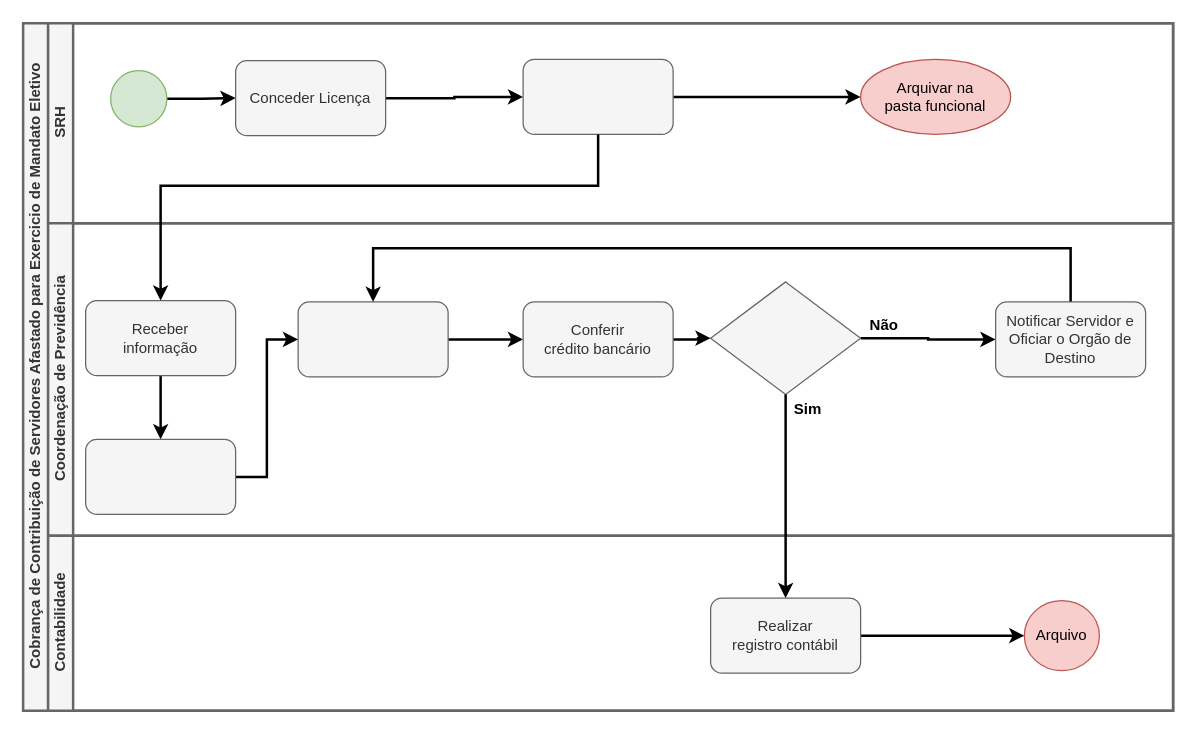
The diagram is 1195 pixels wide and 733 high, and some of its shapes have lost their labels. Here are the shapes that lost their labels. From the top down, the centre of each, then its label:
pixel 138 98: Inicio
pixel 597 96: Informar Fapes
pixel 372 339: Acompanhamento mensal
pixel 785 337: Pagto Realizado?
pixel 160 476: Oficiar orgão de Destino sobre Cobrança
